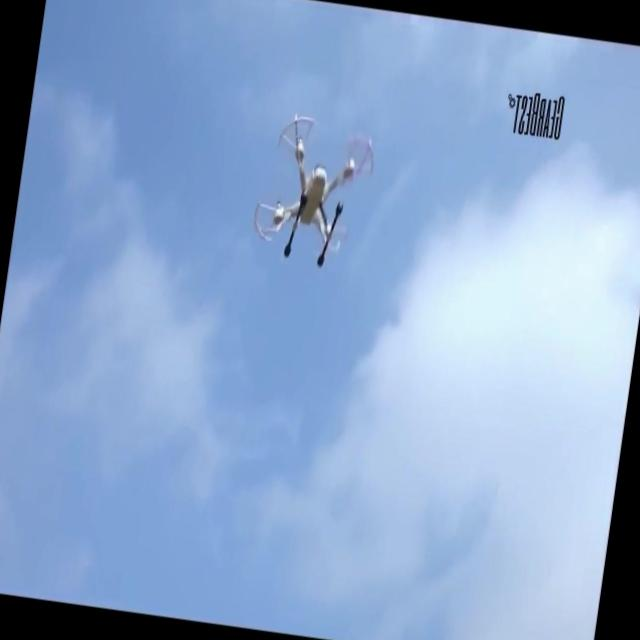drone: (245, 110, 384, 277)
